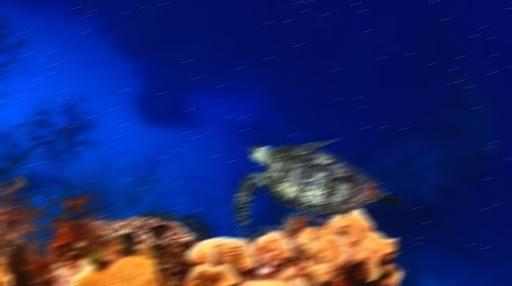Fish: (234, 139, 400, 225)
